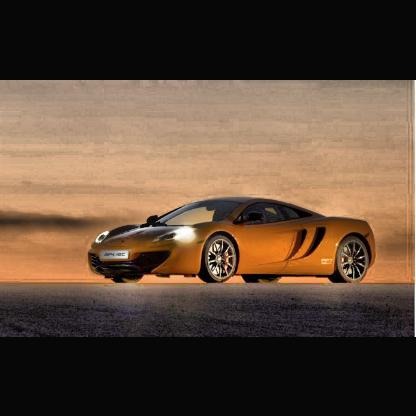McLaren MP4-12C Coupe 2012: (88, 197, 375, 284)
